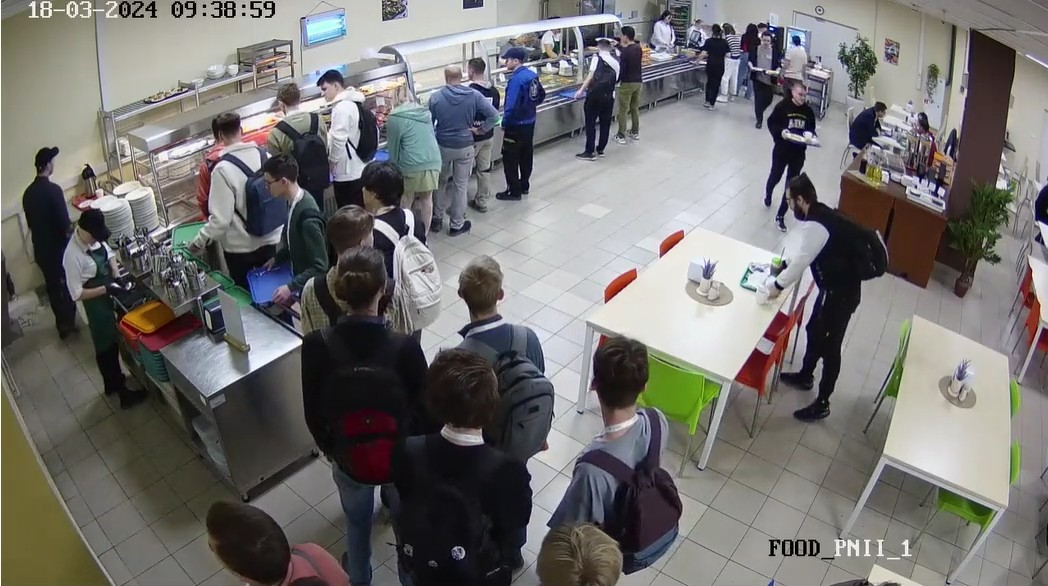Na_Kasse: (752, 28, 776, 122), (703, 26, 725, 105), (720, 19, 739, 102), (784, 27, 806, 81)
Ne_v_Ocheredi: (294, 255, 415, 586), (379, 358, 531, 586), (555, 327, 681, 547), (767, 175, 855, 430), (453, 266, 553, 439), (351, 157, 443, 329), (196, 496, 349, 586), (314, 206, 404, 326), (529, 509, 628, 586), (768, 85, 819, 206)
Personal: (64, 209, 139, 409), (15, 145, 79, 339), (649, 7, 680, 48), (542, 20, 565, 57), (686, 14, 703, 39)
Vybiraet: (381, 91, 449, 255), (201, 114, 269, 273), (267, 159, 325, 319), (429, 67, 482, 227), (493, 49, 547, 206), (321, 70, 377, 188), (264, 79, 322, 189), (465, 57, 500, 209), (582, 40, 613, 159), (612, 24, 642, 142)
Za_Stolom: (840, 101, 885, 166), (910, 107, 934, 153), (1033, 178, 1048, 248)
